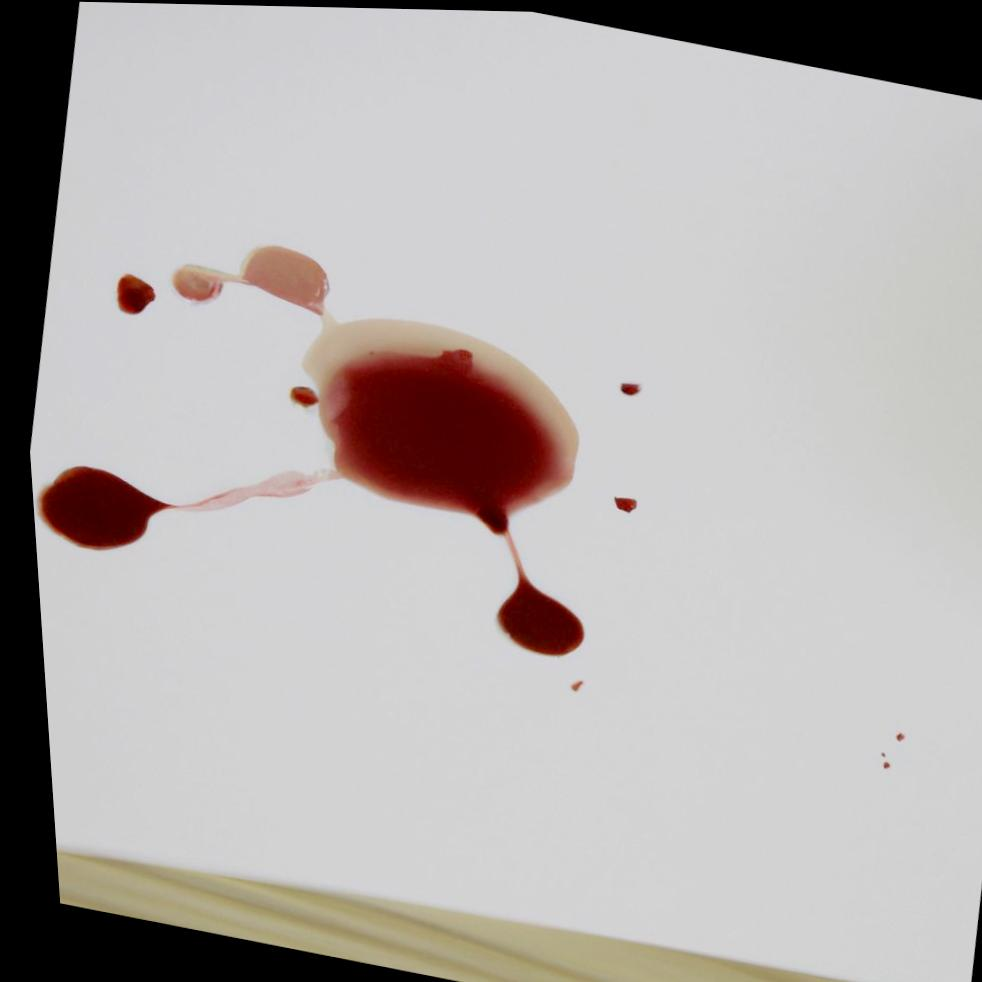Fire: (29, 243, 575, 654), (111, 274, 151, 314), (606, 494, 630, 510), (614, 380, 635, 394)
